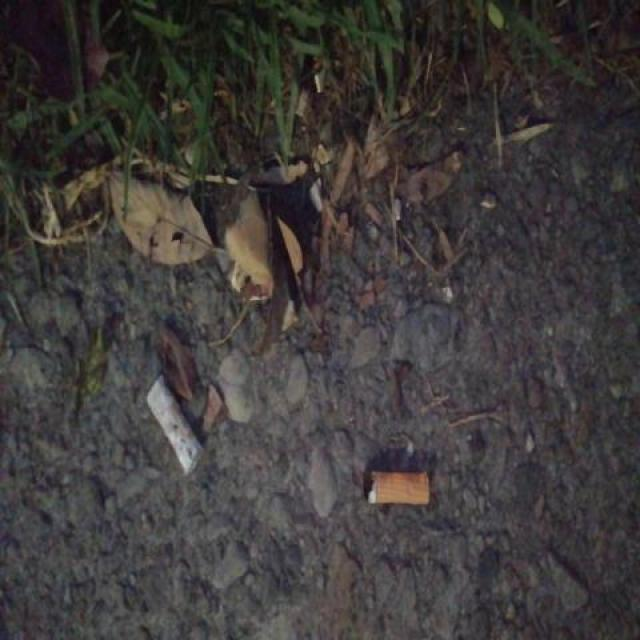non-organic waste: (141, 369, 211, 484), (358, 463, 439, 512)
